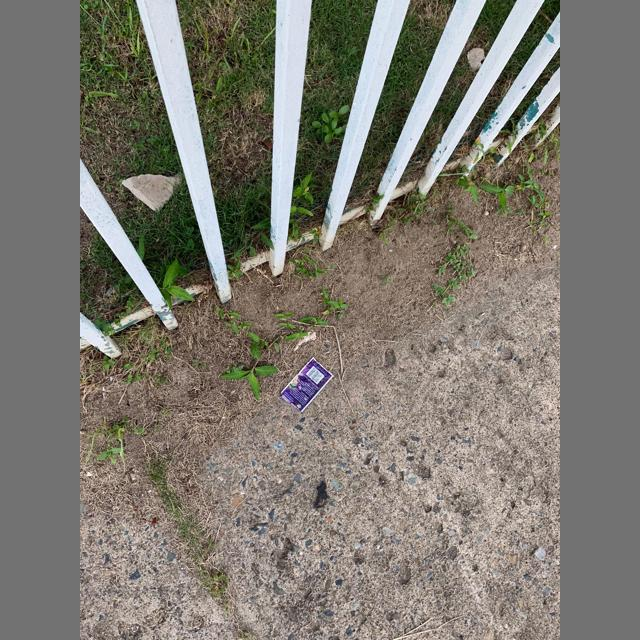litter: (280, 357, 334, 412)
